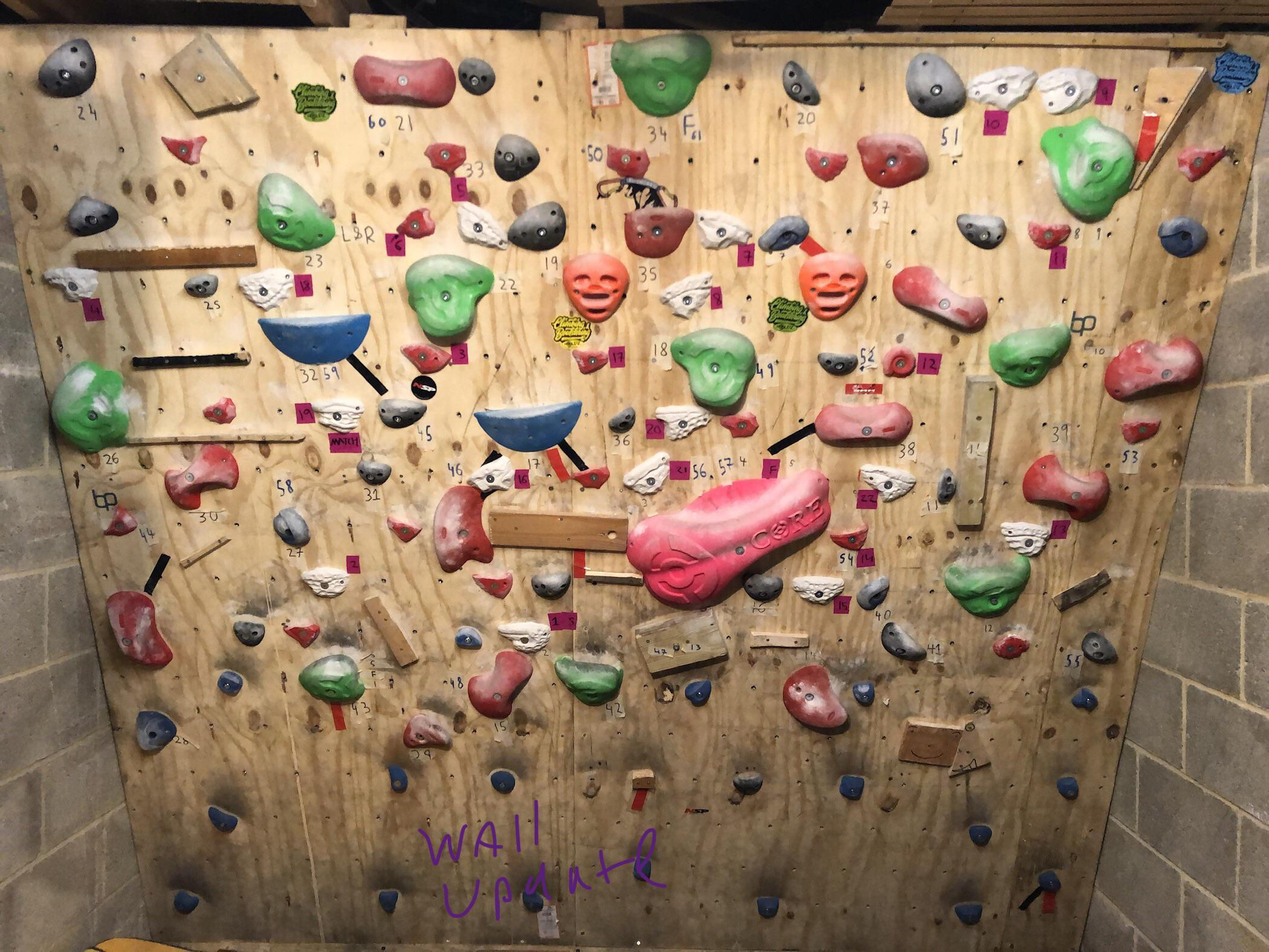black-hold: (614, 434, 852, 626), (1034, 103, 1154, 232), (384, 234, 500, 352), (234, 161, 342, 273), (665, 309, 773, 421), (885, 256, 998, 340), (1097, 328, 1209, 407), (609, 32, 711, 117), (1015, 445, 1117, 528), (553, 239, 643, 331), (457, 640, 547, 730), (888, 42, 977, 132), (155, 434, 249, 519), (100, 580, 177, 680), (792, 242, 877, 327), (52, 362, 129, 454), (773, 657, 852, 744), (424, 480, 496, 575), (473, 399, 587, 458), (985, 322, 1078, 393), (942, 554, 1036, 624), (853, 118, 935, 197), (255, 312, 373, 366), (28, 34, 107, 109), (351, 55, 457, 110), (293, 645, 371, 719), (443, 193, 516, 269), (1031, 53, 1107, 122), (499, 196, 576, 263), (963, 52, 1040, 117), (655, 256, 726, 326), (812, 399, 915, 447), (547, 655, 625, 711), (482, 126, 547, 192), (623, 206, 696, 259), (235, 261, 302, 318), (618, 448, 683, 506), (652, 387, 715, 446), (752, 207, 816, 265), (61, 191, 123, 249), (1170, 128, 1229, 187), (853, 459, 918, 510), (872, 618, 930, 675), (462, 452, 523, 506), (393, 330, 454, 383), (773, 54, 824, 115), (450, 50, 503, 103), (266, 503, 318, 555), (419, 131, 472, 181), (693, 210, 754, 252), (995, 517, 1053, 560), (1074, 627, 1124, 675), (1157, 214, 1209, 259), (390, 204, 440, 249), (954, 212, 1009, 252), (851, 570, 898, 615), (800, 146, 851, 187), (42, 268, 100, 303), (310, 399, 364, 435), (402, 714, 454, 751), (101, 503, 143, 548), (603, 144, 653, 181), (497, 622, 552, 655), (200, 392, 243, 433), (135, 710, 177, 751), (791, 575, 846, 606), (828, 522, 875, 557), (1025, 220, 1073, 252), (160, 134, 209, 165), (378, 399, 428, 429), (605, 402, 643, 440), (302, 567, 349, 597), (381, 516, 424, 547), (719, 410, 762, 441), (742, 573, 784, 604), (201, 805, 241, 837), (569, 465, 613, 493), (1068, 683, 1103, 718), (471, 572, 513, 600), (530, 573, 573, 600), (168, 886, 202, 920), (991, 633, 1032, 661), (230, 619, 267, 649), (571, 349, 610, 377), (1120, 419, 1162, 445), (963, 818, 997, 850), (882, 347, 916, 379), (355, 459, 393, 487), (282, 623, 321, 650), (816, 352, 859, 375), (683, 677, 713, 709), (1035, 866, 1065, 898), (183, 273, 219, 298), (215, 669, 246, 698), (628, 855, 657, 885), (837, 774, 866, 803), (1054, 774, 1082, 804), (734, 771, 763, 796), (453, 627, 484, 650), (953, 903, 984, 926), (937, 469, 957, 503), (489, 770, 516, 793), (388, 764, 409, 792), (757, 895, 781, 919), (852, 682, 875, 707), (377, 889, 399, 915), (522, 889, 544, 910)
